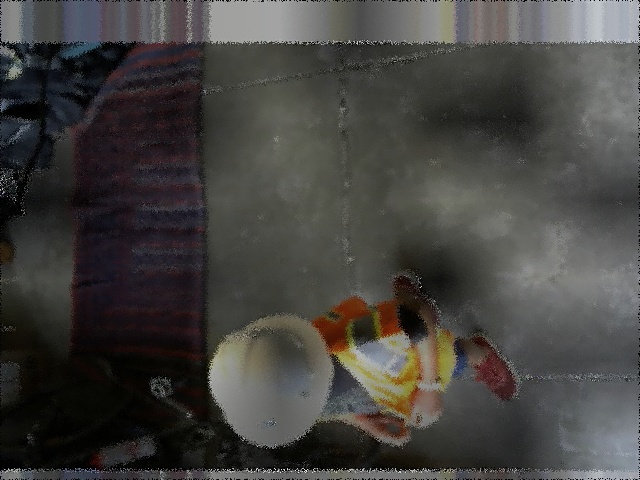eight: (222, 325, 273, 343)
